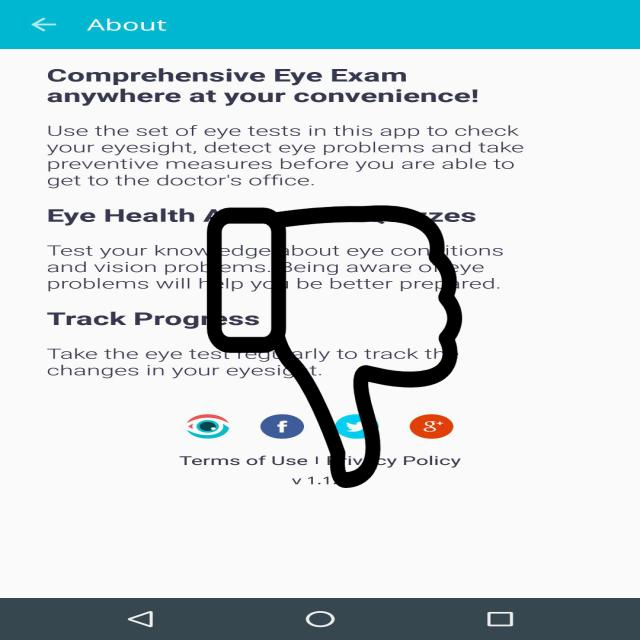obstruction: (203, 205, 466, 488)
